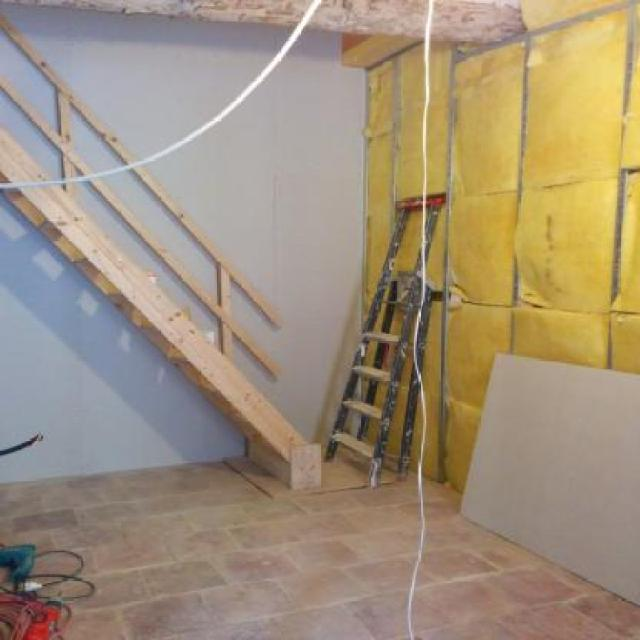stair: (0, 127, 312, 490)
